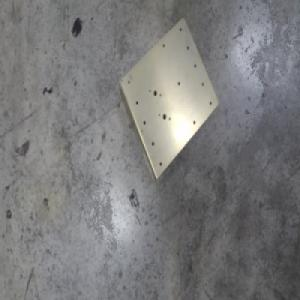MetalSheet: (116, 15, 220, 182)
